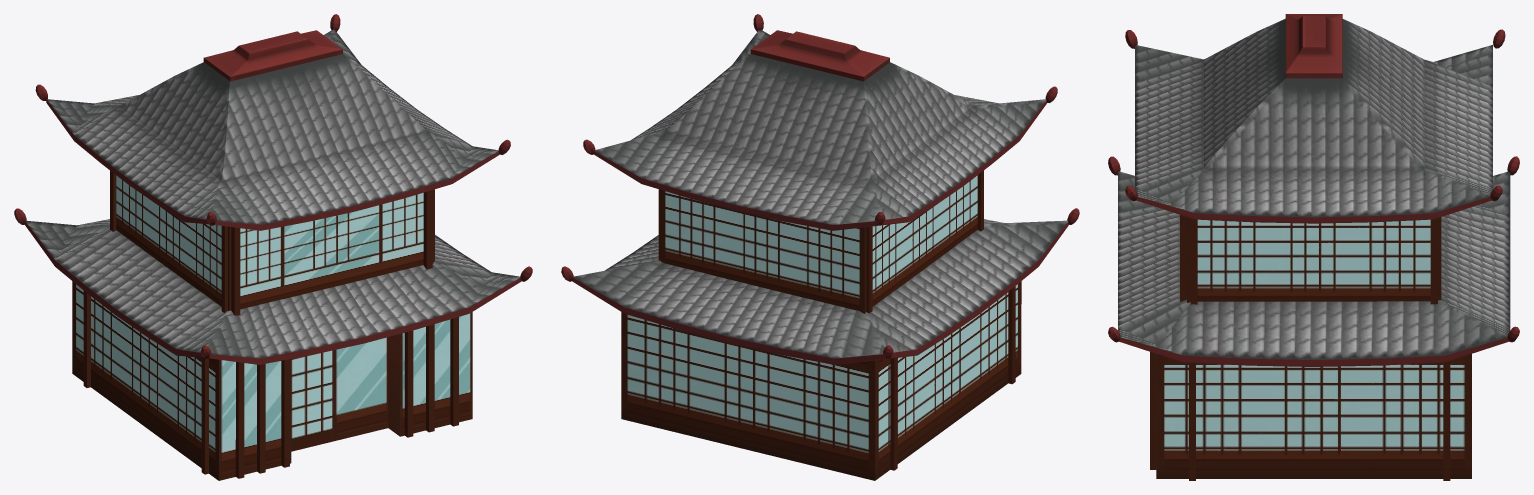
File: japanese_house_01.glb
The picture shows the model from 3 angles, left to right: view 1: azimuth 30°, elevation 25°; view 2: azimuth 150°, elevation 25°; view 3: azimuth 270°, elevation 25°; orthographic projection. The views are drawn at different scales.
Visible parts, largest first — view 1: Japanese__h01; view 2: Japanese__h01; view 3: Japanese__h01.
Part boxes in pixels (x1,y1,x2,y2): Japanese__h01: (14, 14, 532, 480); Japanese__h01: (561, 14, 1079, 480); Japanese__h01: (1108, 14, 1519, 480).
Size of the model in its own units: 9.12 by 9.33 by 9.14.
1 material, 1 textured.
